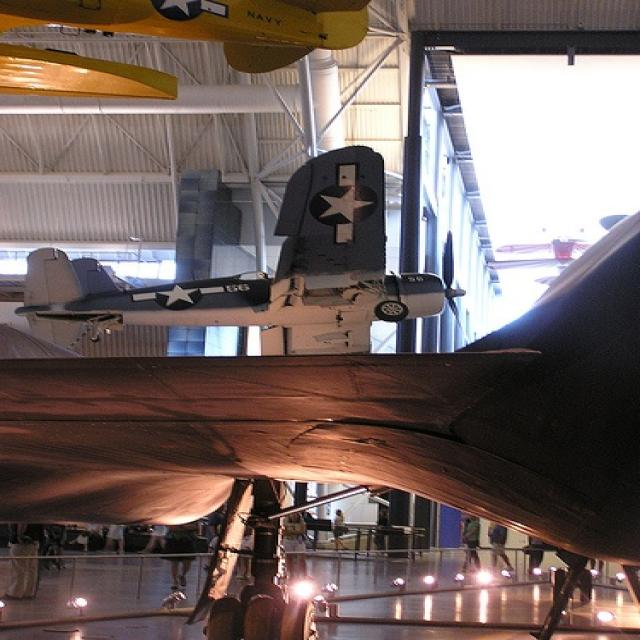aeroplane: (2, 206, 638, 639), (21, 141, 464, 358), (0, 1, 365, 96)
